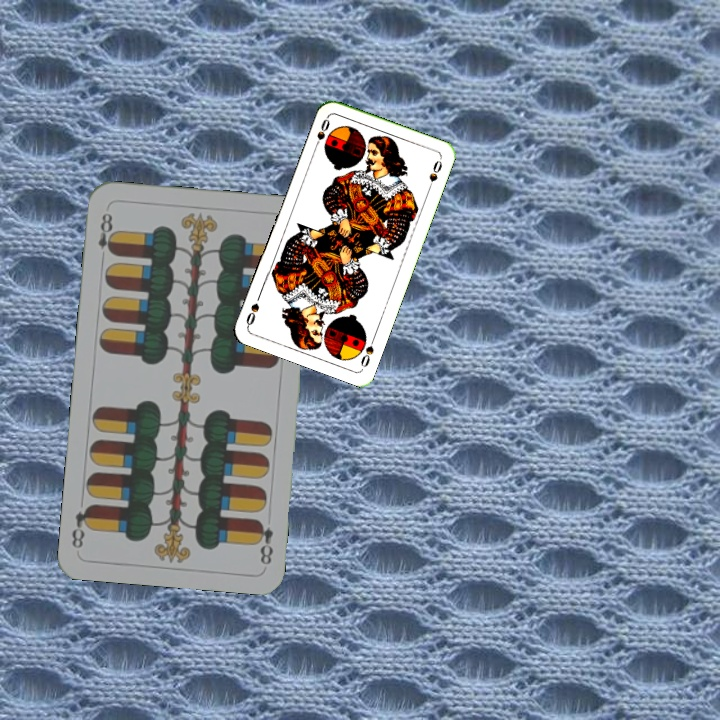E8: (94, 208, 118, 264), (252, 516, 276, 568)
SO: (310, 113, 332, 152), (357, 332, 378, 370)
